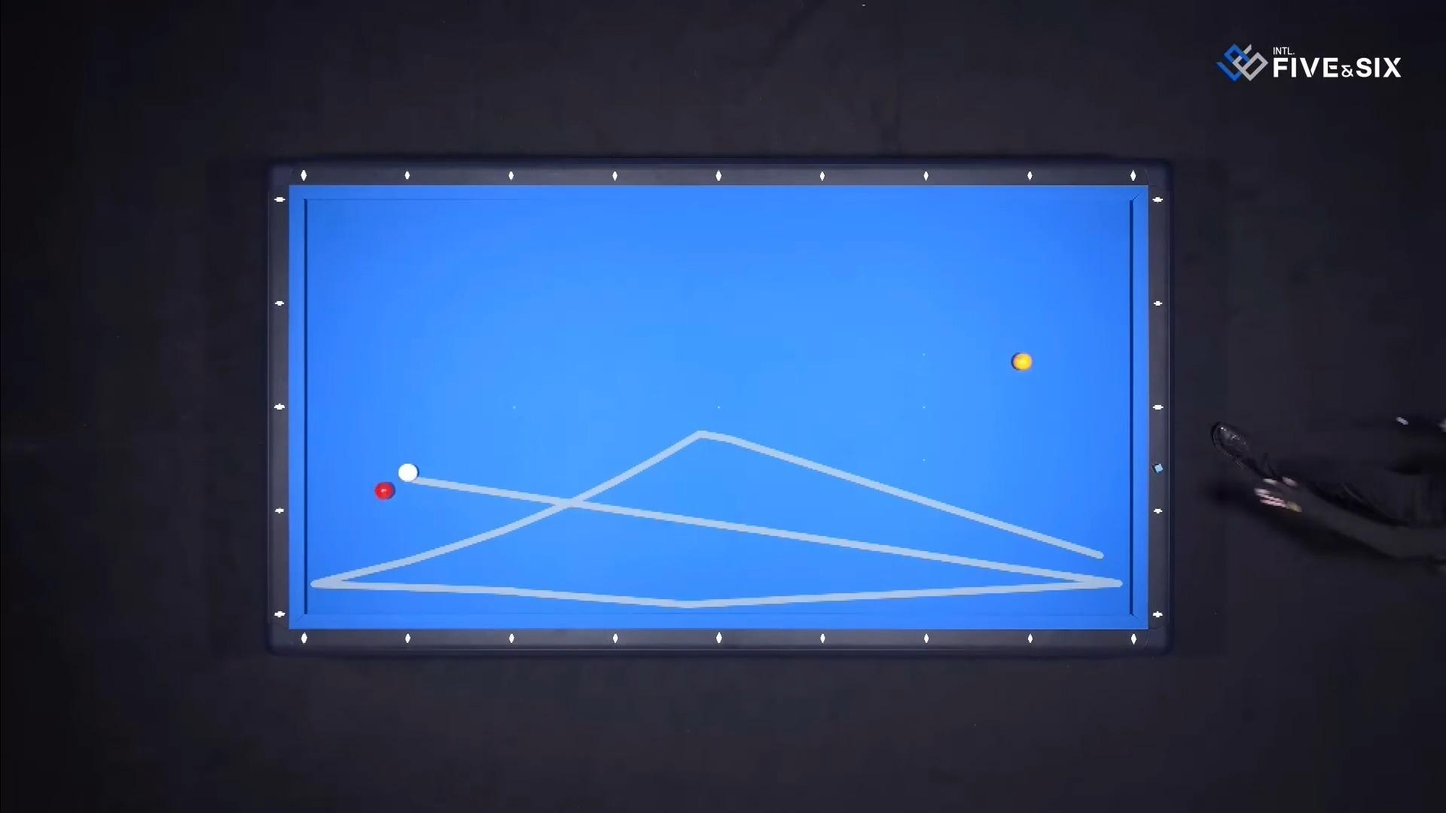-billiard-ball: (1011, 351, 1032, 371)
Red: (374, 483, 398, 503)
White: (396, 462, 422, 482)
Yellow: (1012, 353, 1038, 373)
